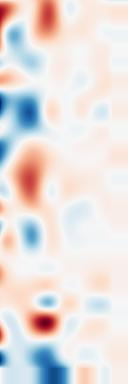filament: (7, 137, 51, 216)
